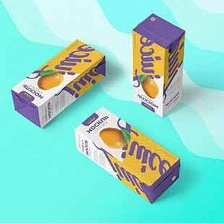carton: (72, 104, 185, 207), (6, 36, 110, 131), (129, 12, 187, 120)
